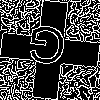G: (25, 25, 68, 74)
